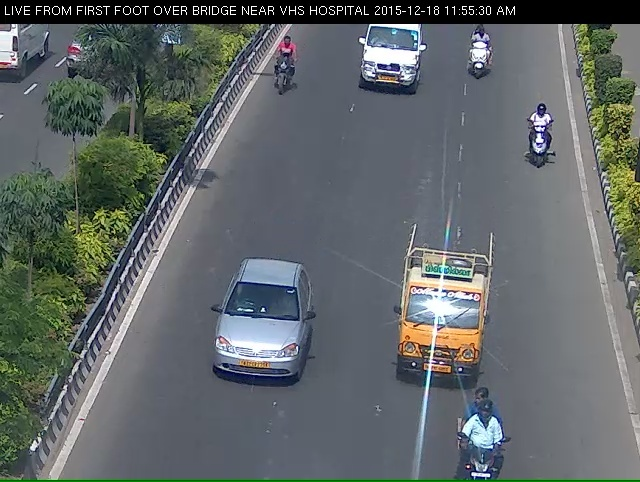Car: (386, 247, 493, 424), (197, 285, 312, 437), (351, 21, 426, 111)
Person: (257, 46, 306, 124), (526, 111, 564, 187), (462, 29, 502, 93)
